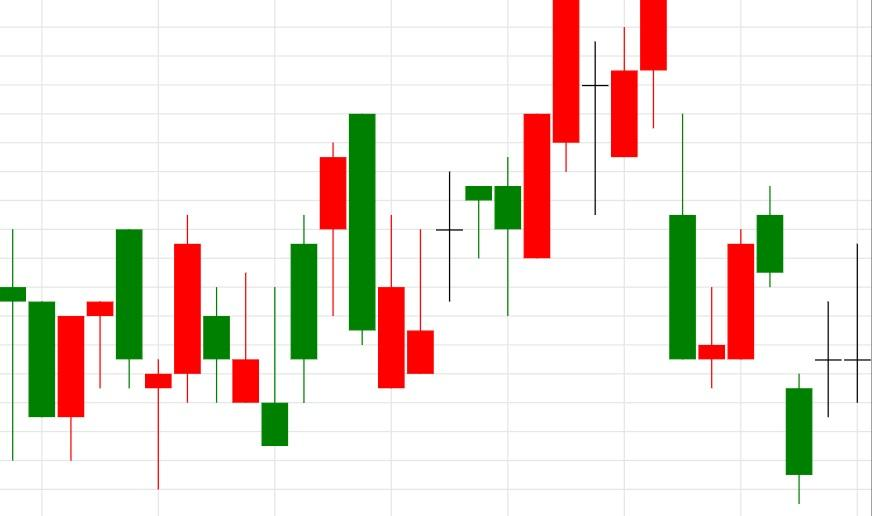bearish_engulfing_fall: (260, 113, 376, 447)
inverse_hammer_rise: (174, 214, 288, 448)
morning_star_rise: (639, 0, 755, 388)
